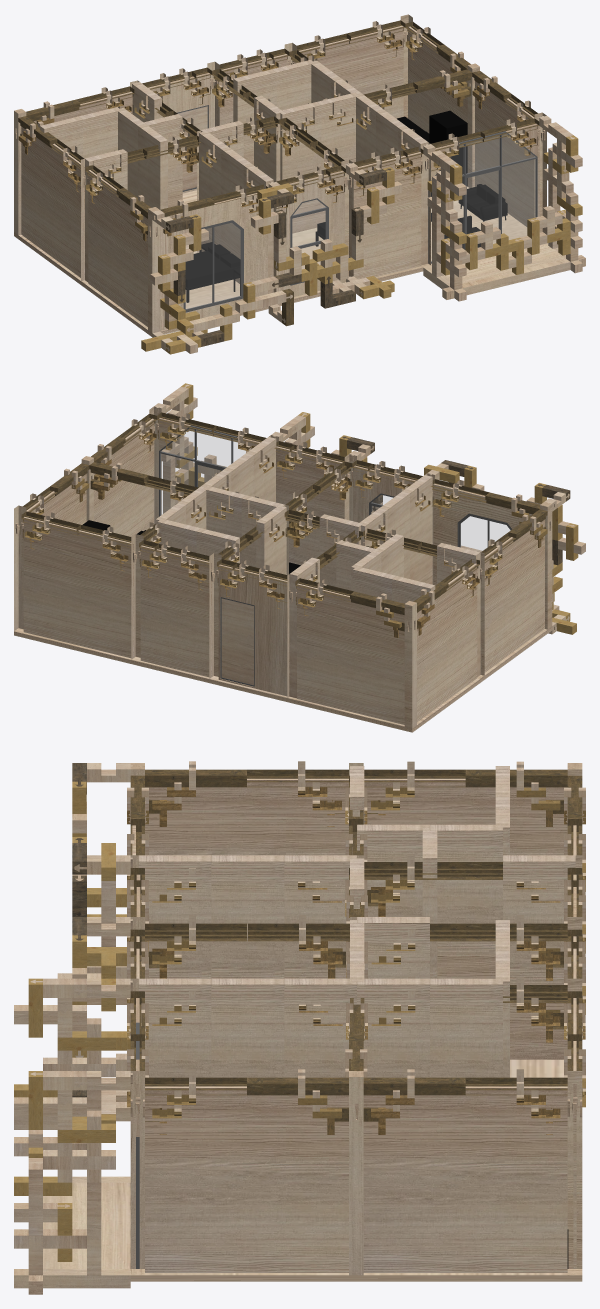
File: 2bed-b.glb
The picture shows the model from 3 angles, top to bottom: view 1: azimuth 30°, elevation 25°; view 2: azimuth 150°, elevation 25°; view 3: azimuth 270°, elevation 25°; orthographic projection. The views are drawn at different scales.
Size of the model in its own units: 10.8 by 3.2 by 7.85.
11 materials, 7 textured.
